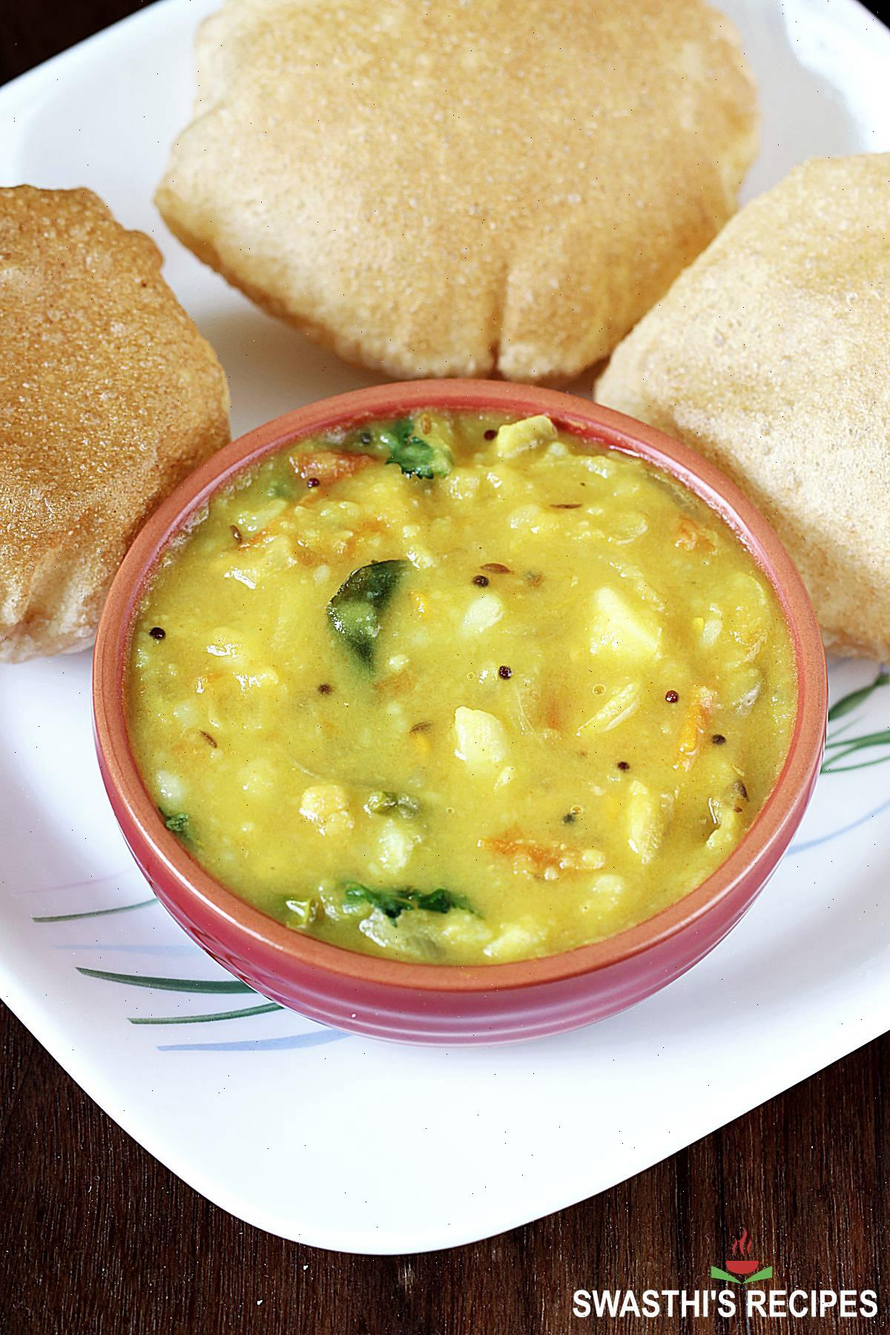puri: (152, 0, 890, 386)
